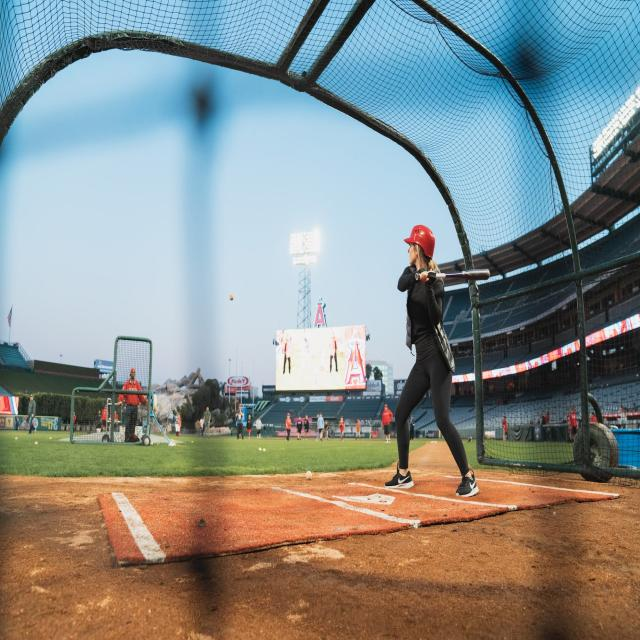adult: (385, 227, 478, 498), (123, 369, 145, 442), (382, 404, 393, 442), (27, 394, 36, 433), (202, 406, 212, 437), (236, 403, 244, 438)
